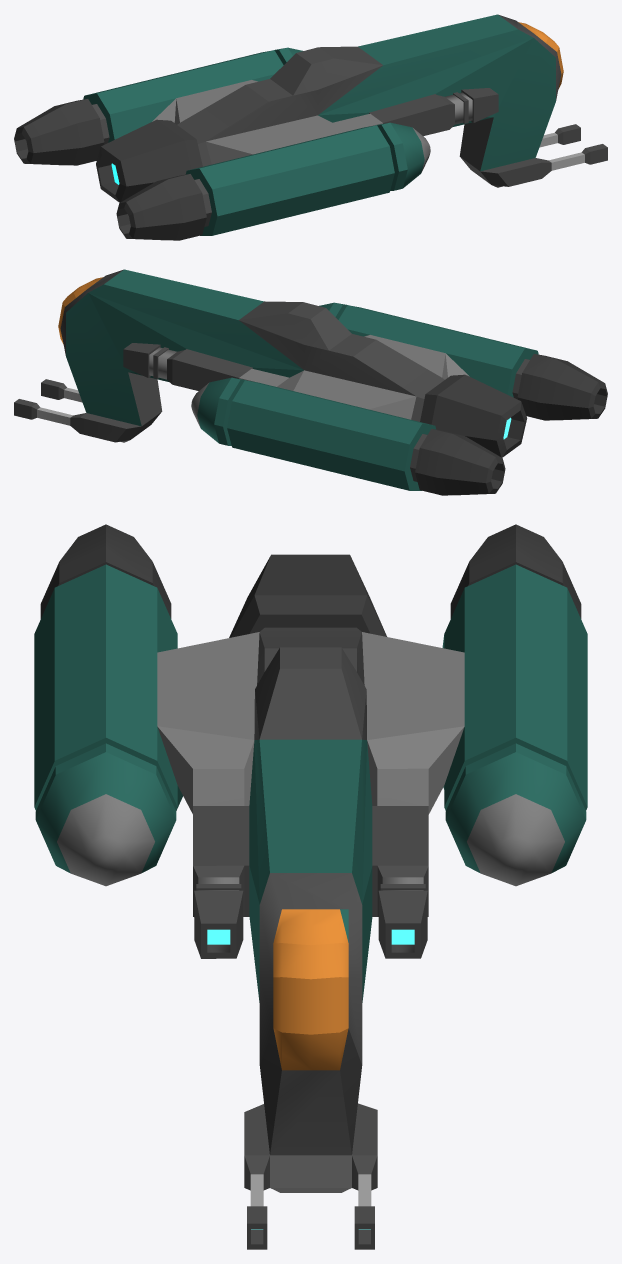
The model's file is Hauler-T-2-Ship-v01.glb.
3 renders of one model, top to bottom at view 1: azimuth 30°, elevation 25°; view 2: azimuth 150°, elevation 25°; view 3: azimuth 270°, elevation 25°, orthographic. The views are drawn at different scales.
Parts seen in each view (by area): view 1: Ship; view 2: Ship; view 3: Ship.
Part boxes in pixels (x1,y1,x2,y2): Ship: (14, 14, 607, 240); Ship: (14, 269, 607, 495); Ship: (34, 524, 587, 1249).
Size of the model in its own units: 23.4 by 7.3 by 10.8.
